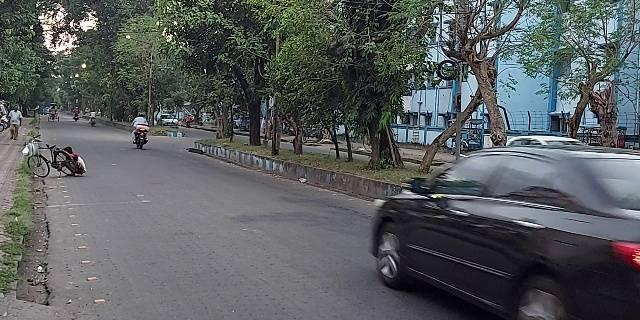Car: (369, 141, 640, 320)
Cycle: (27, 145, 77, 182)
Motorbike: (130, 112, 150, 151)
